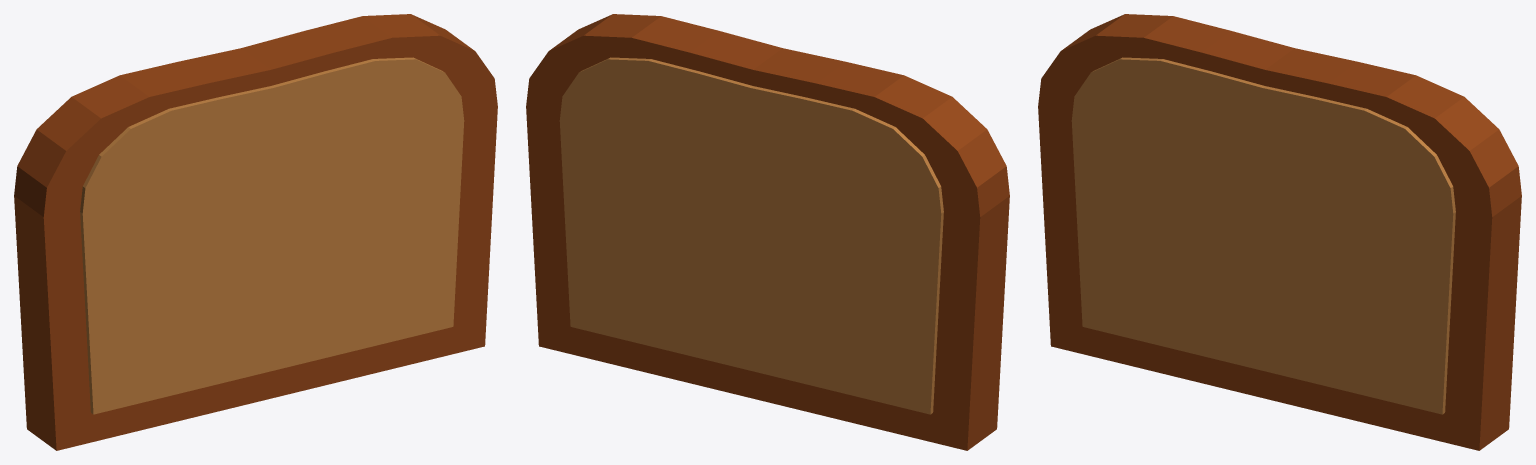
File: toast.glb
The picture shows the model from 3 angles, left to right: view 1: azimuth 30°, elevation 25°; view 2: azimuth 150°, elevation 25°; view 3: azimuth 330°, elevation 25°; orthographic projection.
Parts seen in each view (by area): view 1: Toast; view 2: Toast; view 3: Toast.
Part boxes in pixels (x1,y1,x2,y2): Toast: (14,14,497,450); Toast: (526,14,1009,450); Toast: (1038,14,1521,450).
Size of the model in its own units: 0.159 by 0.1108 by 0.0212.
1 material, 1 textured.
